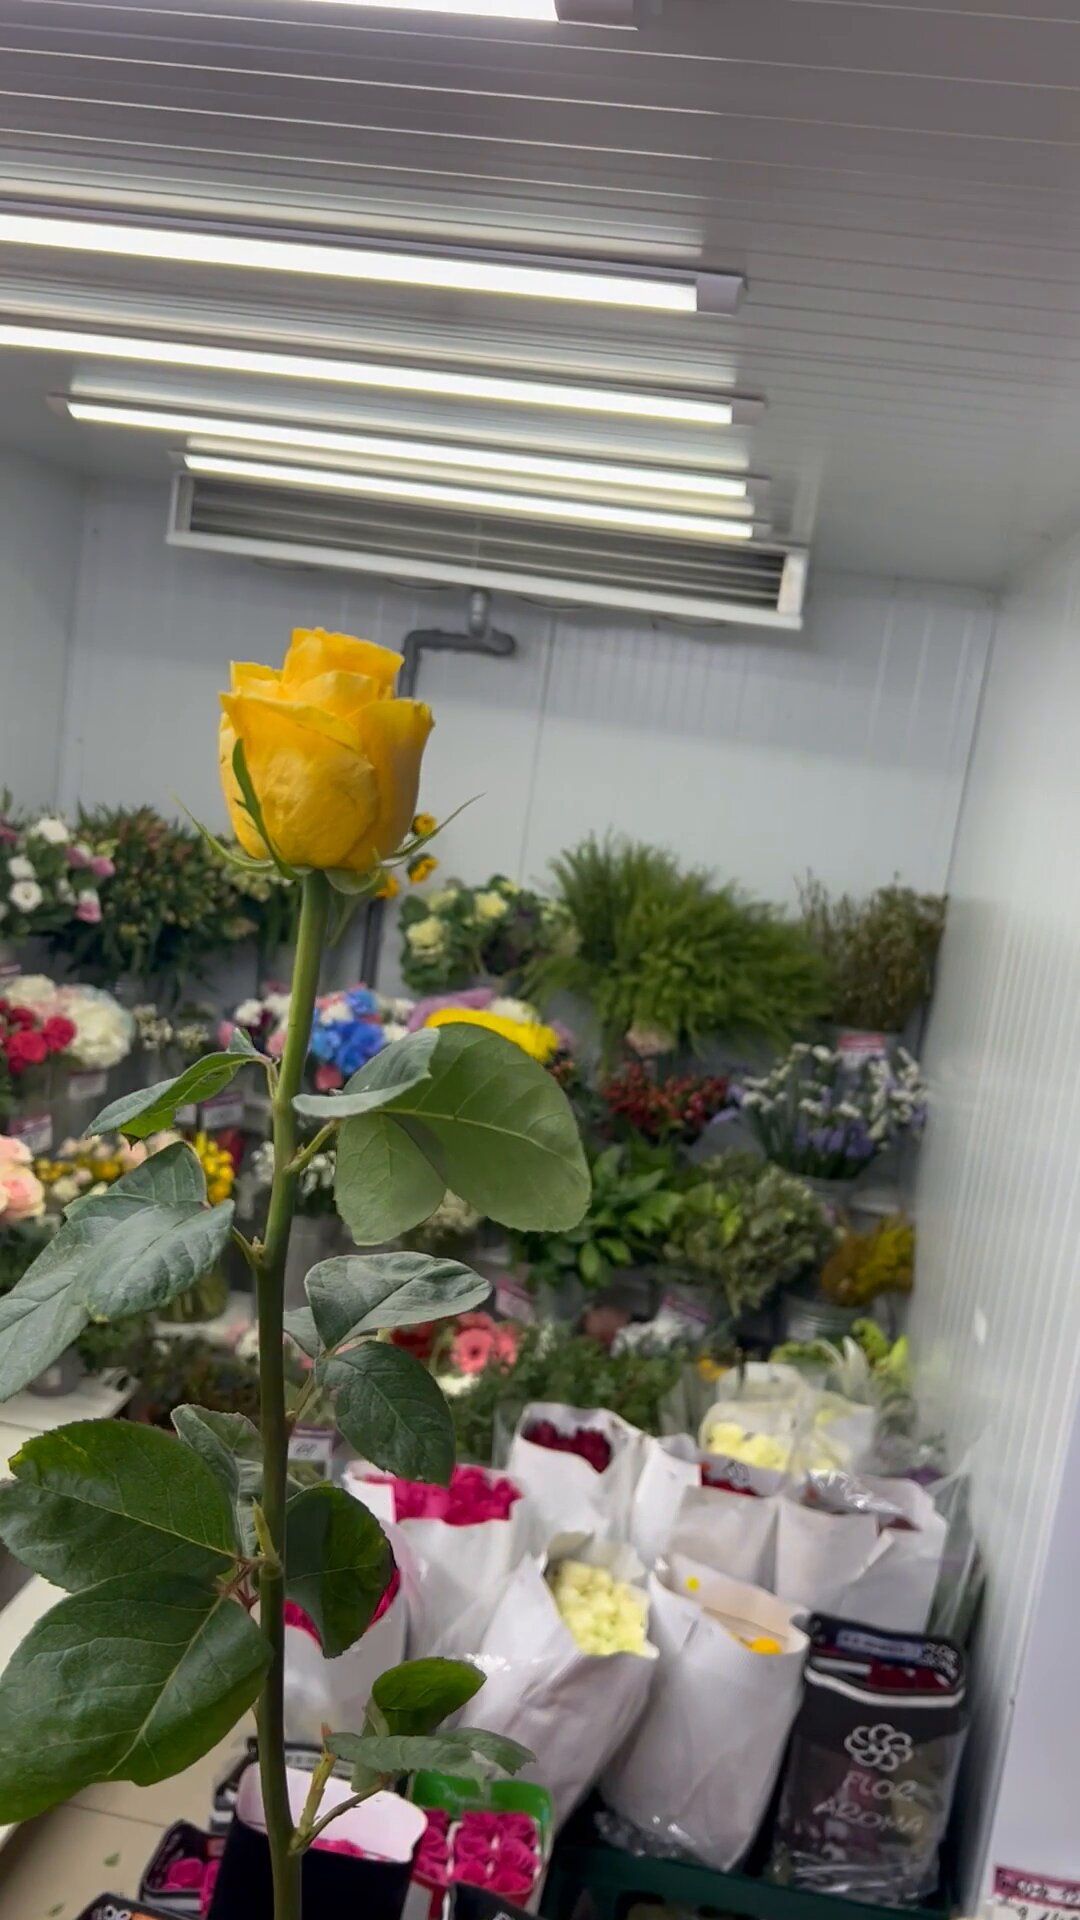rose: (50, 612, 574, 1900)
